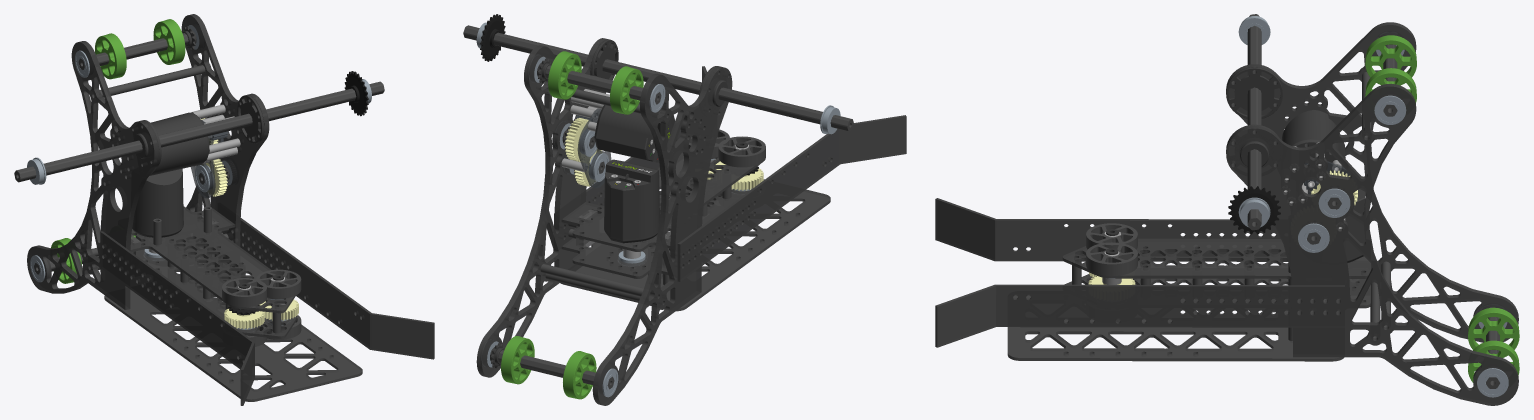
The picture shows the model from 3 angles, left to right: view 1: azimuth 30°, elevation 25°; view 2: azimuth 150°, elevation 25°; view 3: azimuth 270°, elevation 25°; orthographic projection. The views are drawn at different scales.
Parts seen in each view (by area): view 1: Arm Mount w/ Algae (×2), Claw Bent Funnels (×2), Claw Plate (×2), Claw Bottom Plate, Kraken X60 Brushless Motor (×2), 1/2" ThunderHex - 18.625", 2" OD 1/2" Hex Bore Compliant Wheel 35A (am-3462) (×3), 2" 1/2" Hex Bore Flex Wheel (WCP-0133) (×2), 1/2" Hex Bore Aluminum Versahub (217-2592) (×2), 34t 20dp Aluminum 1/2" Hex Bore Gear (217-2706) (×2), Long Algae Spacers, 1/2" ThunderHex - 6" (+3 smaller); view 2: Arm Mount w/ Algae (×2), Claw Bent Funnels (×2), Kraken X60 Brushless Motor (×2), Claw Plate (×2), 2" OD 1/2" Hex Bore Compliant Wheel 35A (am-3462) (×4), Claw Bottom Plate, 1/2" ThunderHex - 18.625", Long Algae Spacers (×3), 1/2" ThunderHex - 6" (×2), 1/2" Hex Bore Aluminum Versahub (217-2592) (×2), 2" 1/2" Hex Bore Flex Wheel (WCP-0133), 34t 20dp Aluminum 1/2" Hex Bore Gear (217-2706) (×2) (+2 smaller); view 3: Arm Mount w/ Algae (×2), Claw Bent Funnels (×2), Claw Bottom Plate, Claw Plate (×2), 2" OD 1/2" Hex Bore Compliant Wheel 35A (am-3462) (×4), .5" Hex ID 1.125" OD Flanged Bearing (217-2734) (×6), Kraken X60 Brushless Motor (×2), 1/2" Hex Bore Aluminum Versahub (217-2592) (×2), 2" 1/2" Hex Bore Flex Wheel (WCP-0133) (×2), 1/2" ThunderHex - 18.625", 24T #25 Hub Sprocket 1/2" Hex (REV-21-2017).
Part boxes in pixels (<box>): Arm Mount w/ Algae (×2): <box>27,14,269,309</box>; Claw Bent Funnels (×2): <box>100,218,434,405</box>; Claw Plate (×2): <box>130,206,296,338</box>; Claw Bottom Plate: <box>104,280,362,401</box>; Kraken X60 Brushless Motor (×2): <box>132,112,211,237</box>; 1/2" ThunderHex - 18.625": <box>14,81,384,182</box>; 2" OD 1/2" Hex Bore Compliant Wheel 35A (am-3462) (×3): <box>51,19,185,283</box>; 2" 1/2" Hex Bore Flex Wheel (WCP-0133) (×2): <box>222,269,301,307</box>; 1/2" Hex Bore Aluminum Versahub (217-2592) (×2): <box>133,95,264,168</box>; 34t 20dp Aluminum 1/2" Hex Bore Gear (217-2706) (×2): <box>202,159,264,329</box>; Long Algae Spacers: <box>97,65,205,97</box>; 1/2" ThunderHex - 6": <box>78,33,188,70</box>; Arm Mount w/ Algae (×2): <box>476,38,732,405</box>; Claw Bent Funnels (×2): <box>554,66,906,281</box>; Kraken X60 Brushless Motor (×2): <box>593,102,677,243</box>; Claw Plate (×2): <box>561,152,759,278</box>; 2" OD 1/2" Hex Bore Compliant Wheel 35A (am-3462) (×4): <box>501,51,643,399</box>; Claw Bottom Plate: <box>560,179,830,311</box>; 1/2" ThunderHex - 18.625": <box>463,25,853,131</box>; Long Algae Spacers (×3): <box>540,89,663,305</box>; 1/2" ThunderHex - 6" (×2): <box>498,65,661,389</box>; 1/2" Hex Bore Aluminum Versahub (217-2592) (×2): <box>590,39,727,113</box>; 2" 1/2" Hex Bore Flex Wheel (WCP-0133): <box>718,136,765,167</box>; 34t 20dp Aluminum 1/2" Hex Bore Gear (217-2706) (×2): <box>564,118,763,190</box>; Arm Mount w/ Algae (×2): <box>1226,22,1518,405</box>; Claw Bent Funnels (×2): <box>935,198,1344,347</box>; Claw Bottom Plate: <box>1007,295,1344,361</box>; Claw Plate (×2): <box>1062,238,1370,311</box>; 2" OD 1/2" Hex Bore Compliant Wheel 35A (am-3462) (×4): <box>1365,35,1519,382</box>; .5" Hex ID 1.125" OD Flanged Bearing (217-2734) (×6): <box>1238,16,1508,397</box>; Kraken X60 Brushless Motor (×2): <box>1282,110,1365,262</box>; 1/2" Hex Bore Aluminum Versahub (217-2592) (×2): <box>1226,67,1282,174</box>; 2" 1/2" Hex Bore Flex Wheel (WCP-0133) (×2): <box>1086,223,1137,275</box>; 1/2" ThunderHex - 18.625": <box>1247,14,1261,230</box>; 24T #25 Hub Sprocket 1/2" Hex (REV-21-2017): <box>1228,186,1280,234</box>.
Bounding box in the file's own units: 0.4731 × 0.3457 × 0.5724.
